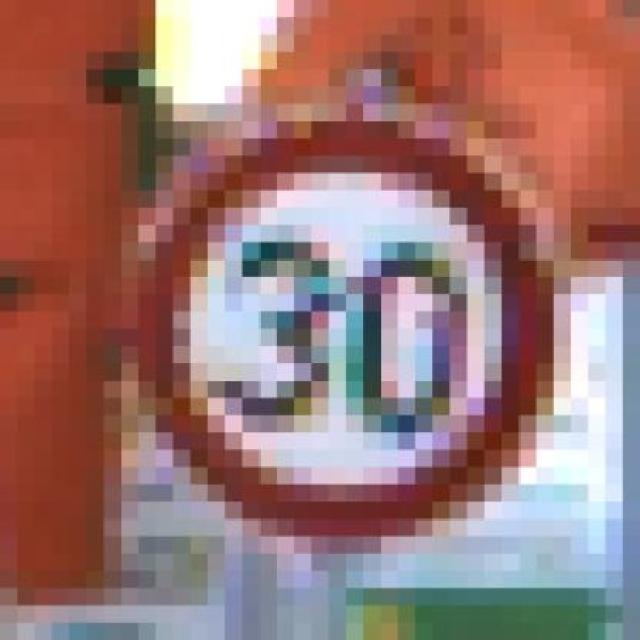forb_speed_over_30: (139, 121, 556, 536)
